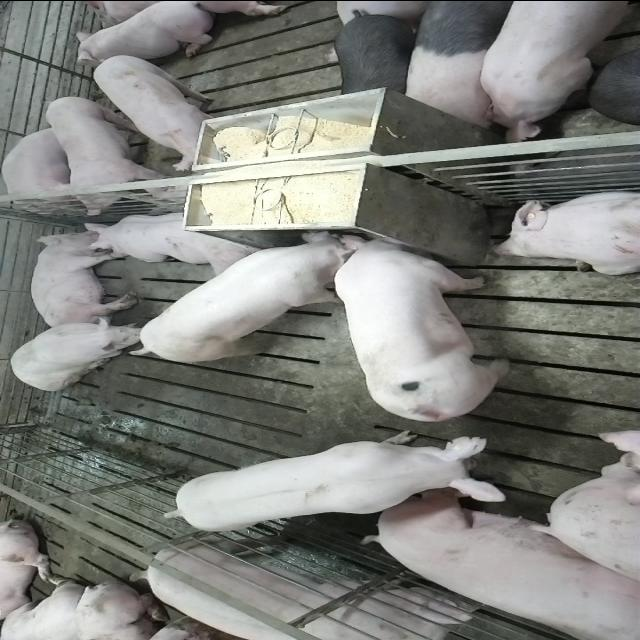Feeding: (338, 232, 524, 422), (126, 232, 370, 364)
Lateral_lying: (29, 228, 140, 329)
Sitting: (8, 314, 149, 390)
Standing: (156, 428, 510, 534), (128, 536, 486, 640), (478, 2, 640, 142), (92, 52, 236, 167), (400, 2, 519, 128), (333, 8, 429, 100), (590, 34, 640, 122)
Sternal_lying: (490, 187, 640, 275), (81, 207, 262, 270), (72, 2, 222, 60), (2, 126, 86, 210)
